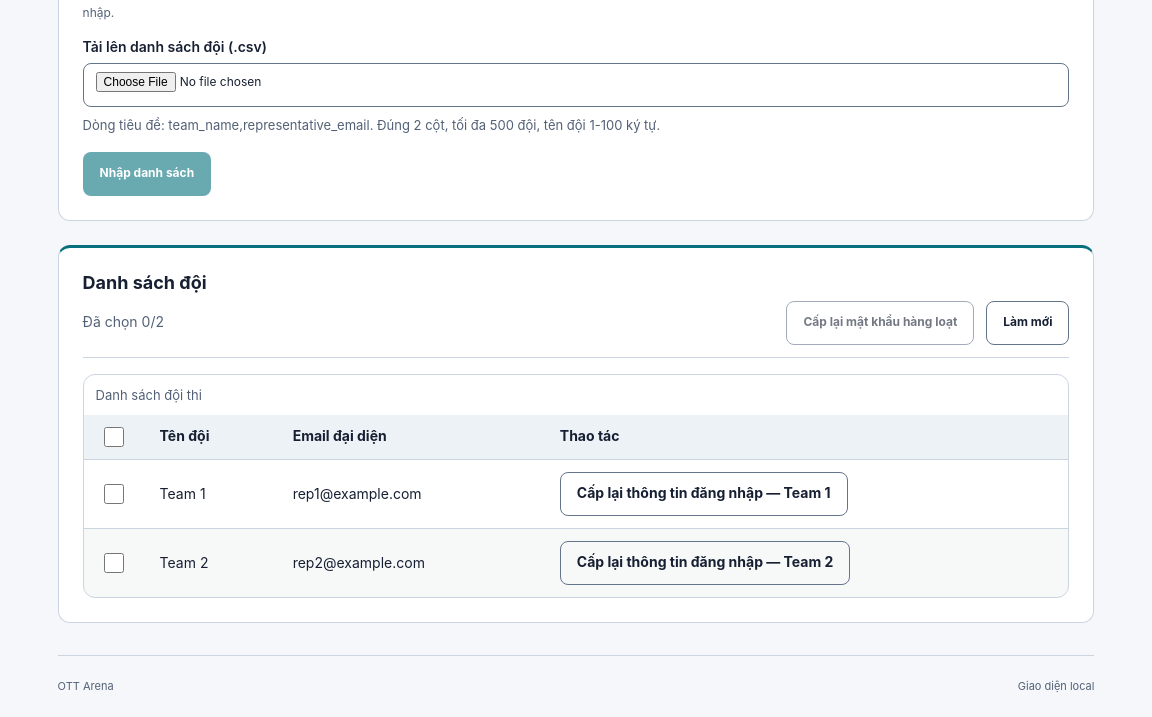
Test: BTC bulk team provisioning and bulk reset › bulk reset requires confirmation and sends selected IDs
The width and height of the screenshot is (1152, 717).
(page scrolled)
Expected: the text "Team 1" is shown, top-left (144, 459), bottom-right (277, 528)
Select all teams
Click the checkbox named "chọn tất cả".
click(114, 436)  # box top-left (104, 426), bottom-right (124, 446)
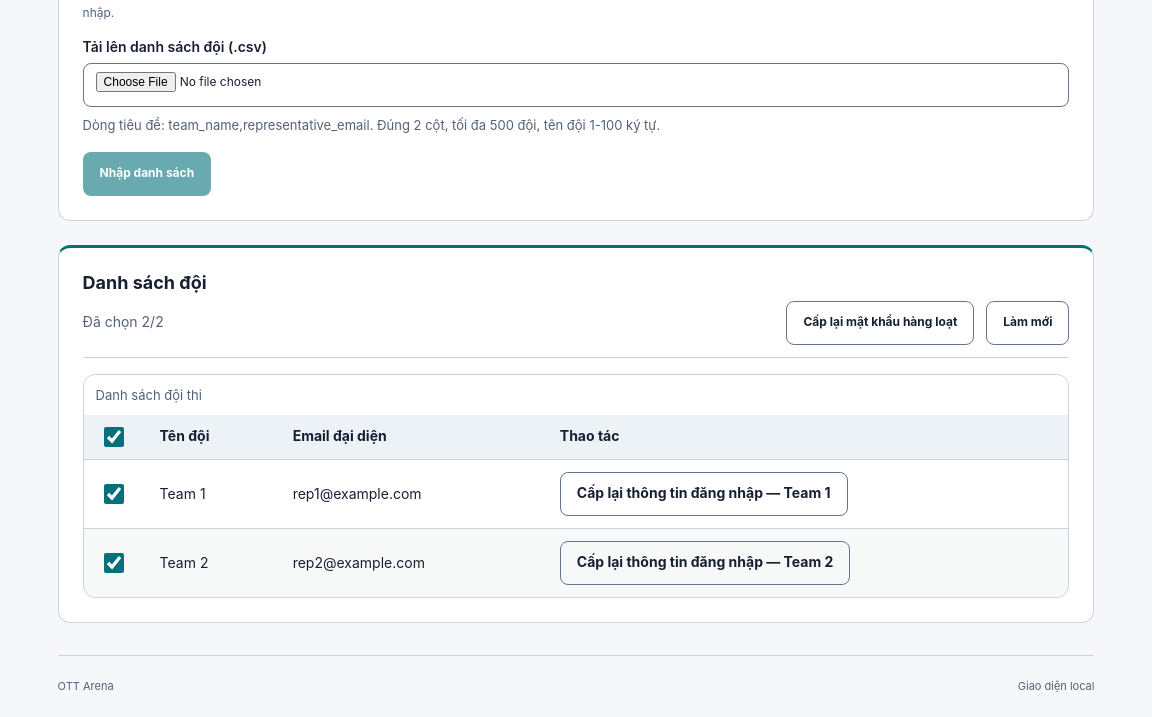
Expected: the button "Cấp lại mật khẩu hàng loạt" is enabled
Click the button "Cấp lại mật khẩu hàng loạt".
click(880, 322)  # box top-left (786, 300), bottom-right (974, 344)
(page scrolled)
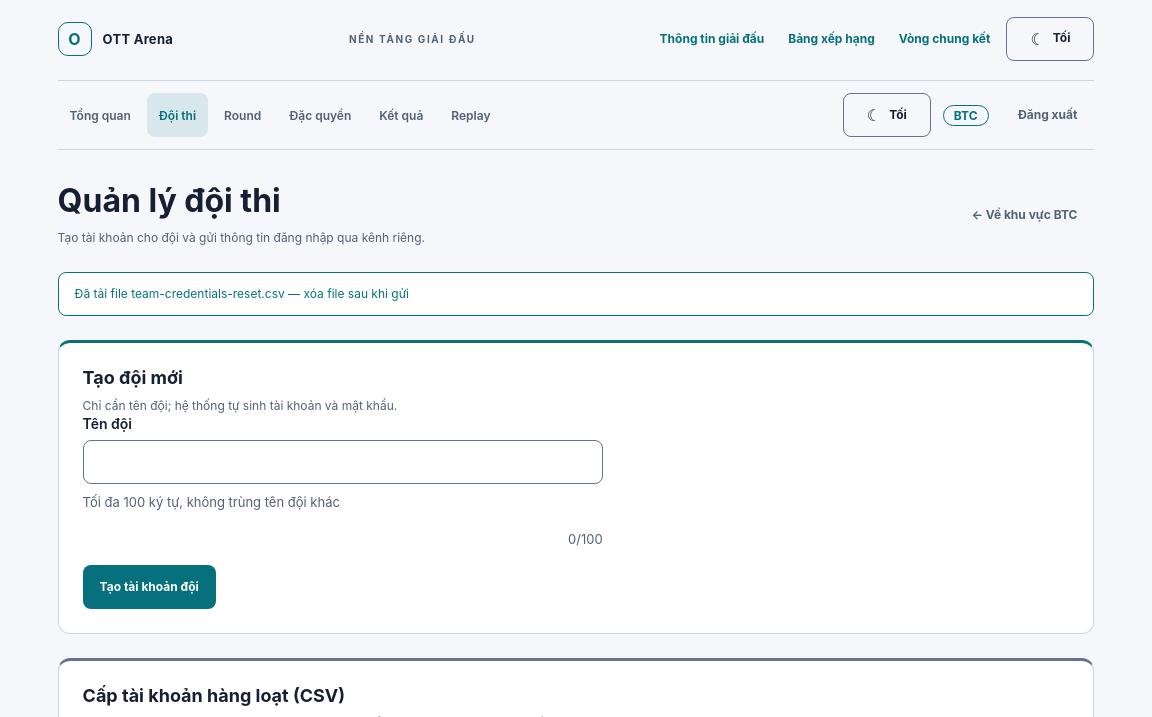
Expected: the text "Đã tải file team-credentials-reset.csv — xóa file sau khi gửi" is shown, top-left (58, 272), bottom-right (1094, 316)
